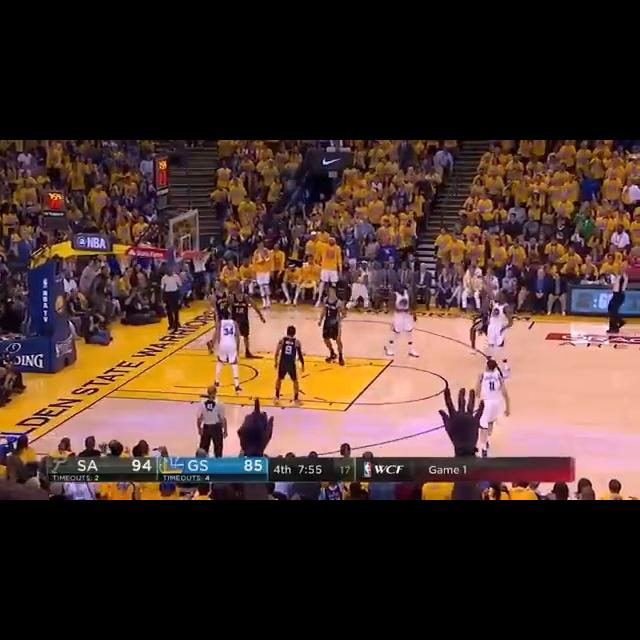hoop: (189, 248, 213, 276)
